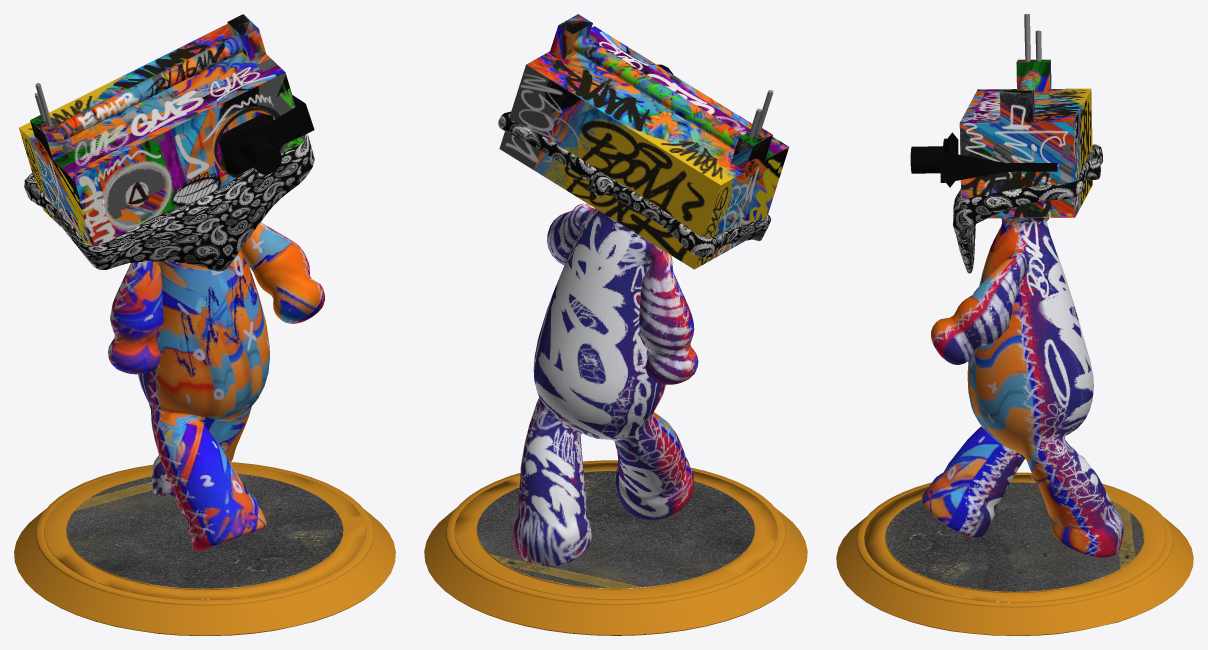
3 views of the same model, side by side, from view 1: azimuth 30°, elevation 25°; view 2: azimuth 150°, elevation 25°; view 3: azimuth 270°, elevation 25° (orthographic). The views are drawn at different scales.
Visible parts, largest first — view 1: BBody; view 2: BBody; view 3: BBody.
Part boxes in pixels (x1,y1,x2,y2): BBody: (14, 14, 395, 635); BBody: (424, 14, 807, 635); BBody: (836, 14, 1193, 635).
Bounding box in the file's own units: 1.45 × 2.19 × 1.45.
Materials: 7 (4 with a texture image).
